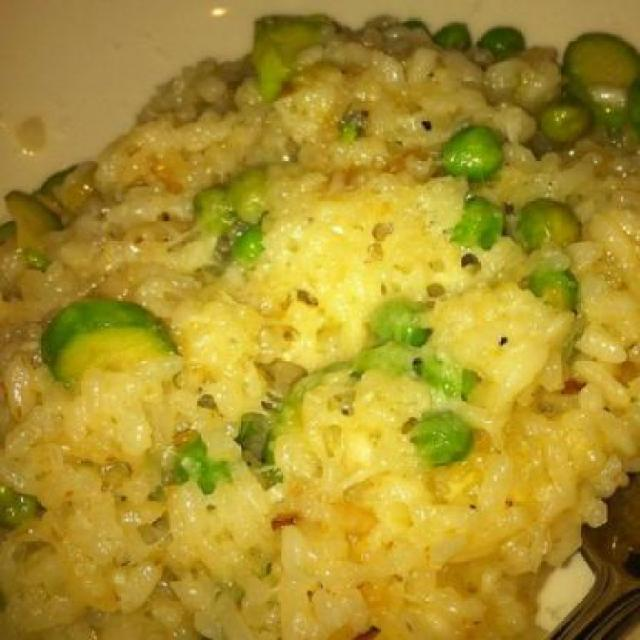Risotto: (9, 17, 622, 629)
